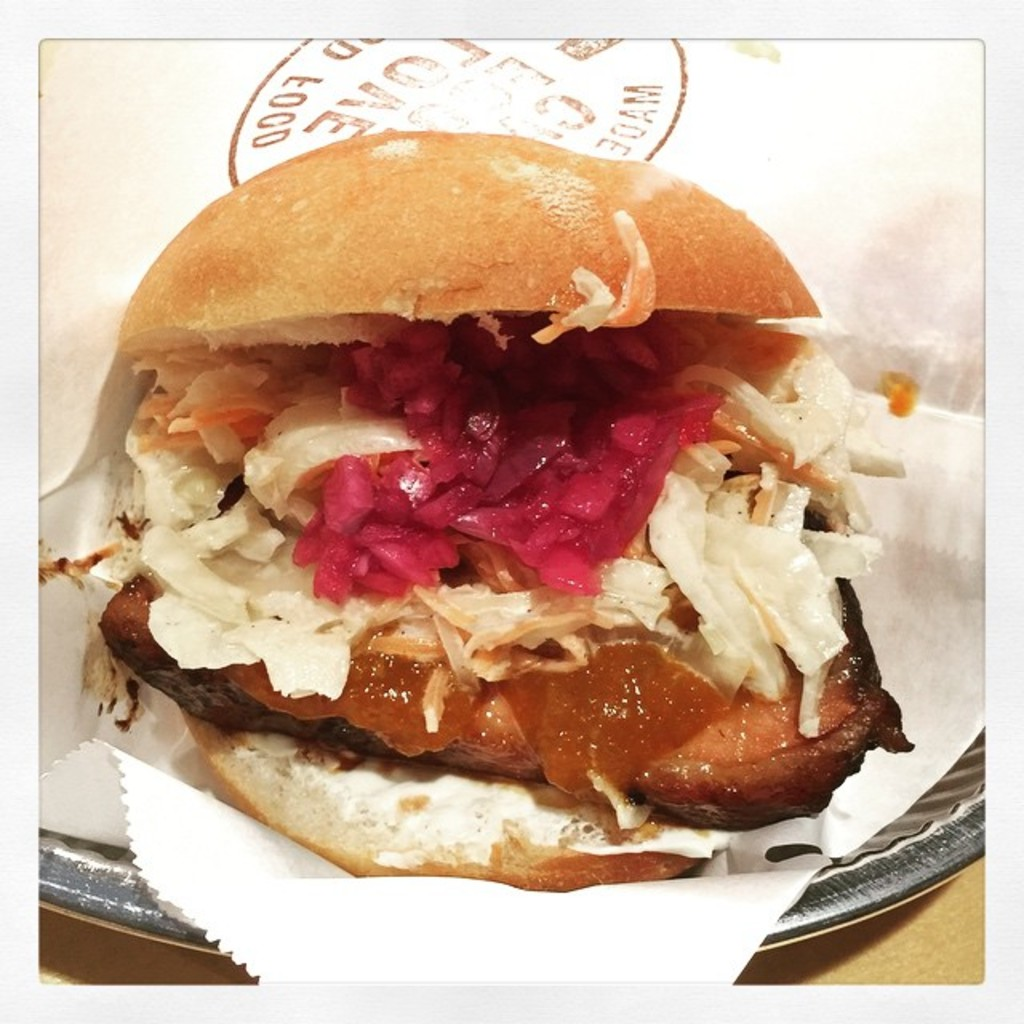Hamburger: (38, 134, 913, 902)
